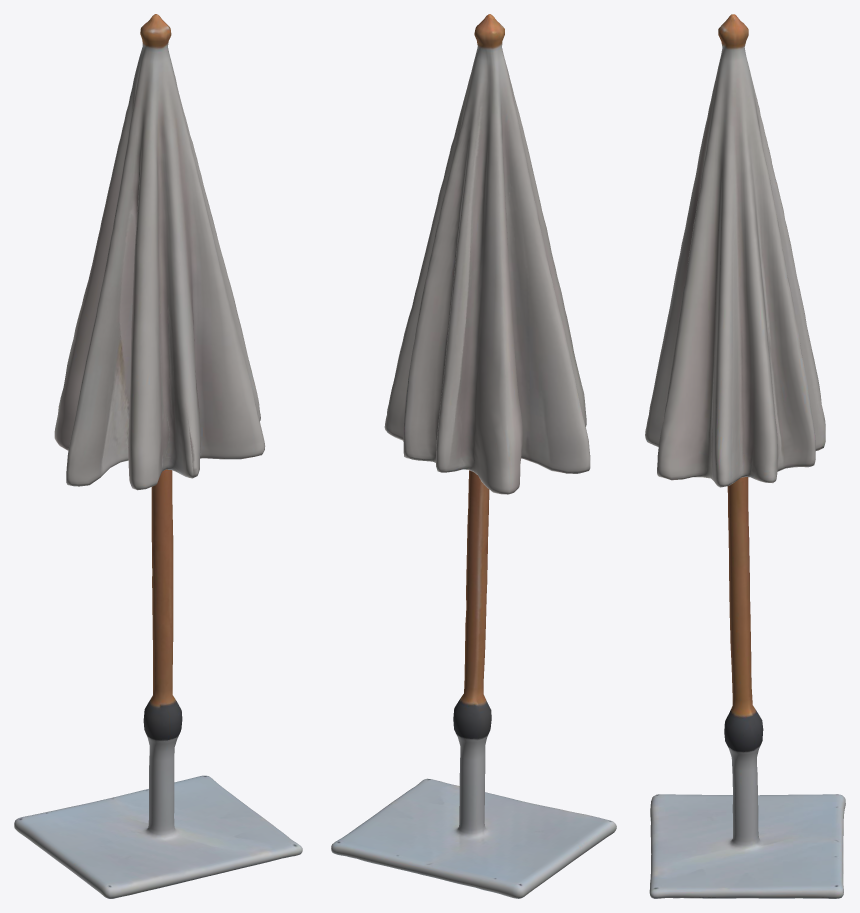
File: tripo_convert_5a78b6b0-2698-4827-9f2f-f9420da0e851.obj
3 renders of one model, left to right at view 1: azimuth 30°, elevation 25°; view 2: azimuth 150°, elevation 25°; view 3: azimuth 270°, elevation 25°, orthographic.
Visible parts, largest first — view 1: tripo_node_5a78b6b0-2698-4827-9f2f-f9420da0e851; view 2: tripo_node_5a78b6b0-2698-4827-9f2f-f9420da0e851; view 3: tripo_node_5a78b6b0-2698-4827-9f2f-f9420da0e851.
Boxes of the visible parts, box(x1,y1,x2,y2) form: tripo_node_5a78b6b0-2698-4827-9f2f-f9420da0e851: box(14, 14, 302, 898); tripo_node_5a78b6b0-2698-4827-9f2f-f9420da0e851: box(331, 14, 616, 898); tripo_node_5a78b6b0-2698-4827-9f2f-f9420da0e851: box(645, 14, 845, 898).
Bounding box in the file's own units: 0.2407 × 0.9456 × 0.206.
Materials: 1 (1 with a texture image).
